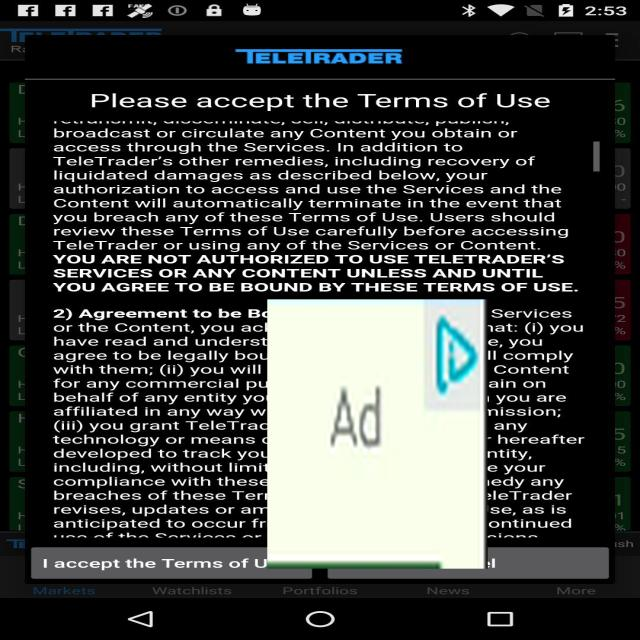sneaking: (267, 299, 488, 569)
